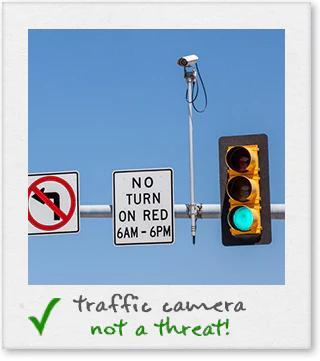Monitor: (172, 53, 210, 105)
